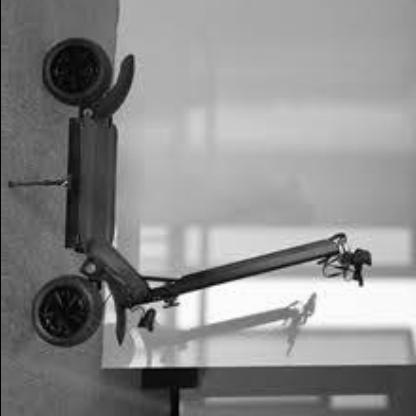bike: (317, 234, 372, 287)
